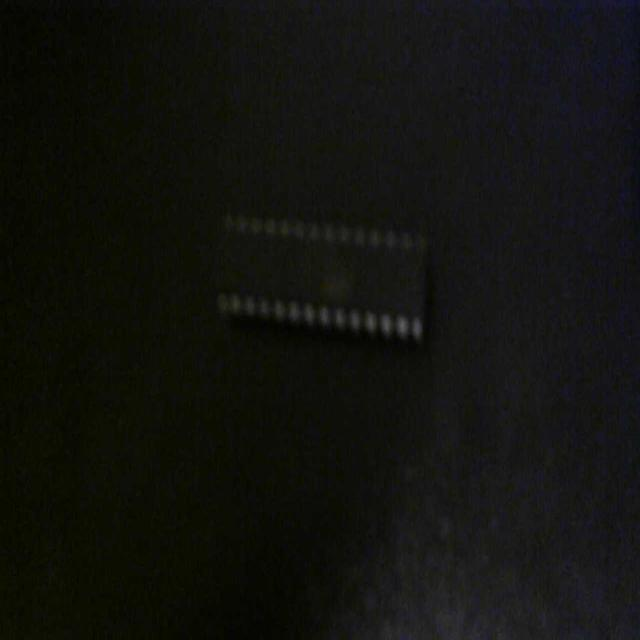atmega: (213, 202, 432, 354)
